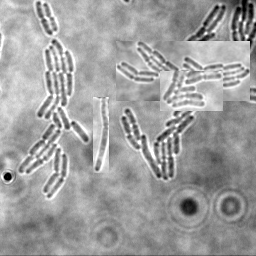Dividing: (93, 97, 109, 173), (34, 1, 52, 37), (41, 3, 57, 33)
Microcolony: (18, 40, 89, 199), (116, 41, 250, 101), (120, 102, 197, 181), (160, 71, 223, 111), (184, 5, 226, 41), (230, 1, 255, 56)
